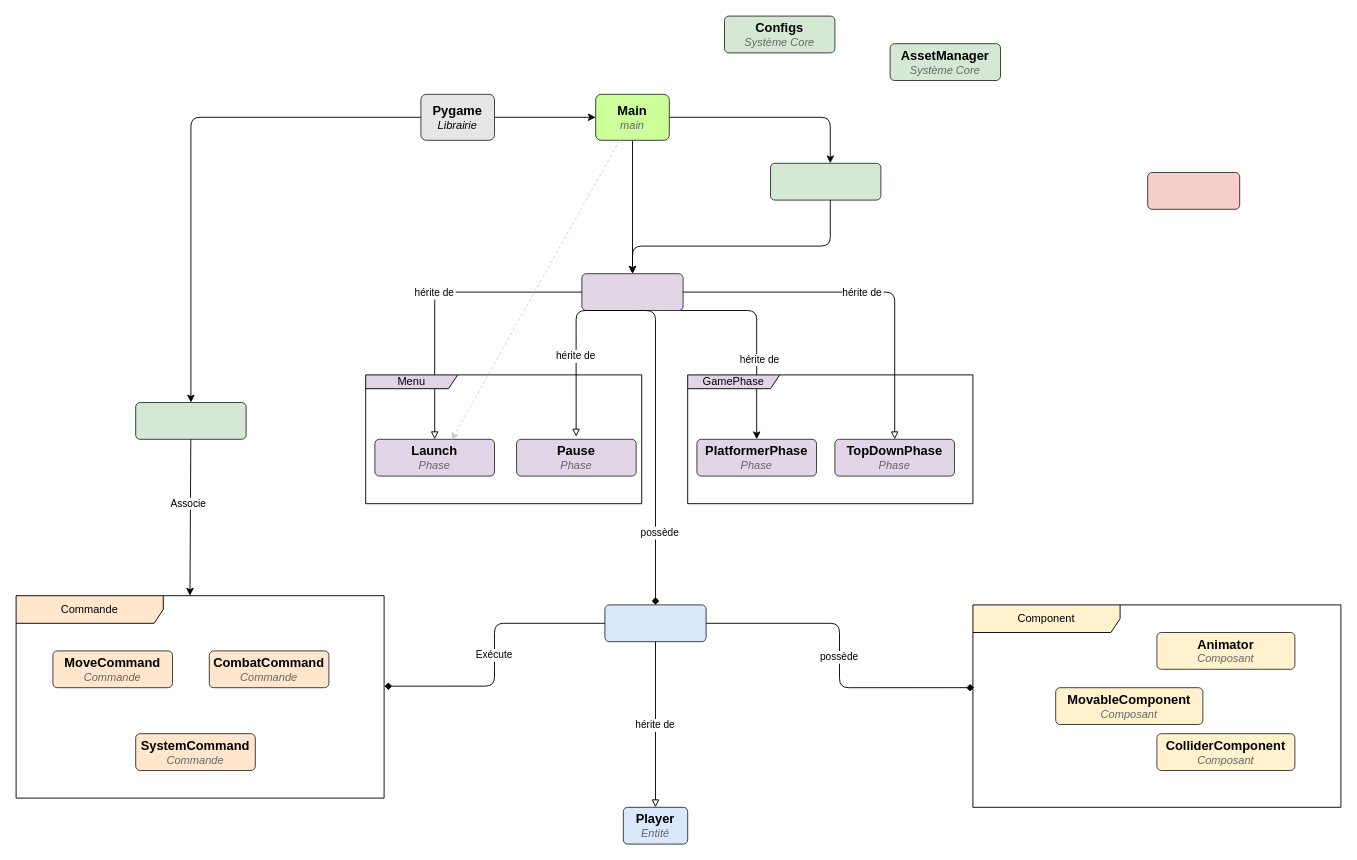
The diagram is 1357 pixels wide and 860 high, and some of its shapes have lost their labels. Each missing label, with the centre of its shape:
"BaseEntity Classe de base" belongs at (655,623).
"GameState Interface Phase" belongs at (632,291).
"InputManager Système Core" belongs at (190,420).
"Signal Système Core" belongs at (1193,190).
"StateManager Système Core" belongs at (825,181).
